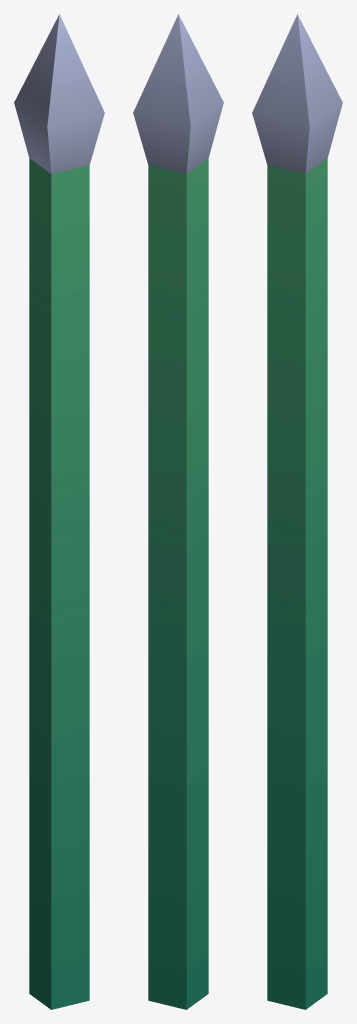
Rendered from iron-fence-bar.glb.
3 views of the same model, side by side, from view 1: azimuth 30°, elevation 25°; view 2: azimuth 150°, elevation 25°; view 3: azimuth 330°, elevation 25° (orthographic).
Visible parts, largest first — view 1: Asset3DLoader.sceneRoot; view 2: Asset3DLoader.sceneRoot; view 3: Asset3DLoader.sceneRoot.
Boxes of the visible parts, x1,y1,x2,y2 form: Asset3DLoader.sceneRoot: (14, 14, 104, 1009); Asset3DLoader.sceneRoot: (133, 14, 223, 1009); Asset3DLoader.sceneRoot: (252, 14, 342, 1009).
Bounding box in the file's own units: 0.045 × 0.7339 × 0.045.
1 material, 1 textured.
